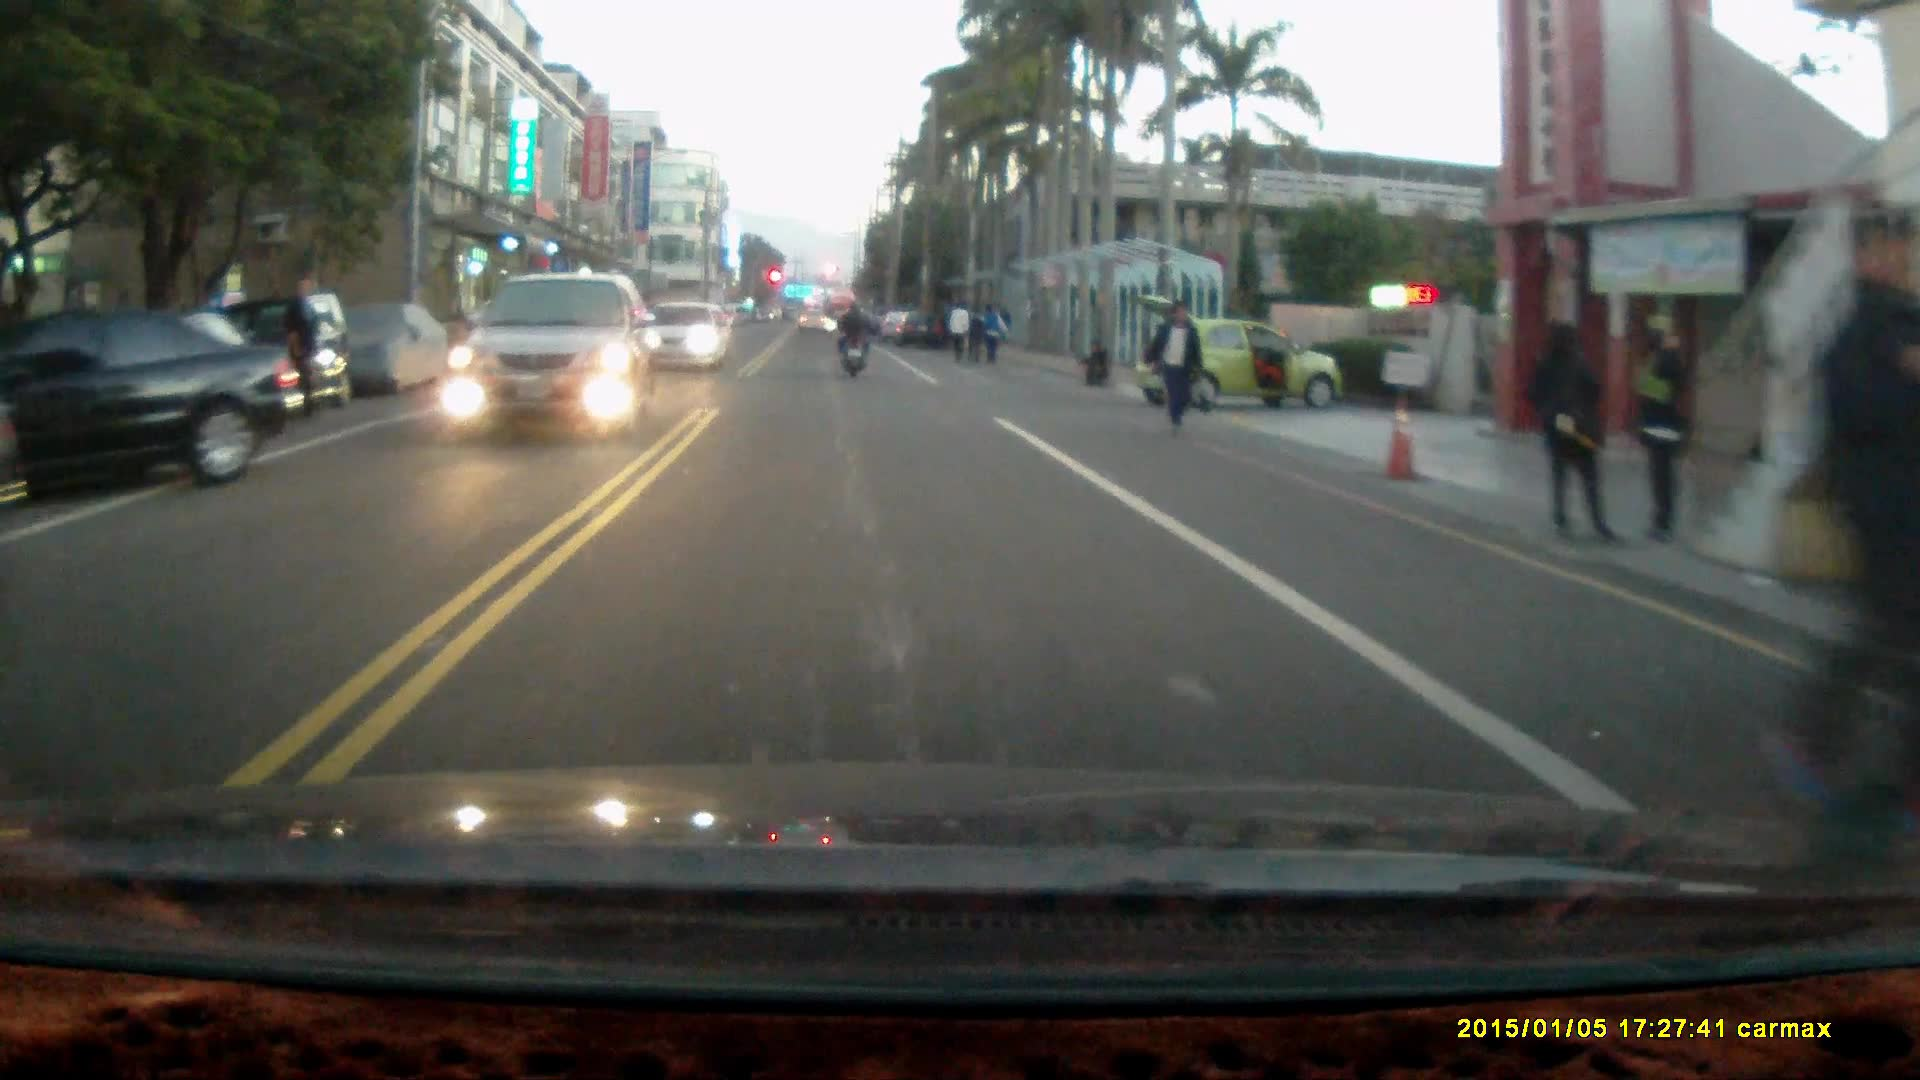pedestrian: (1776, 203, 1916, 821), (1522, 313, 1619, 542), (1631, 317, 1688, 539), (1145, 299, 1206, 438), (979, 297, 1005, 364), (1081, 336, 1113, 385), (946, 295, 968, 362), (965, 302, 985, 363)
rider: (833, 297, 872, 378)
vehicle: (0, 302, 308, 510), (447, 268, 662, 434), (1131, 291, 1354, 407), (185, 294, 352, 421), (641, 301, 734, 374)
